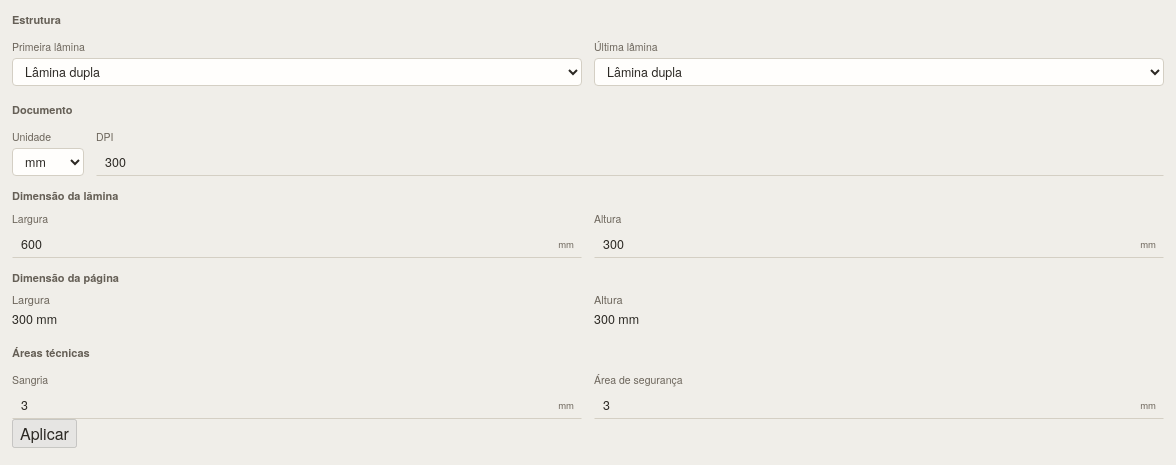
Scenario: changing Unidade converts presentation without changing physical dimensions
The width and height of the screenshot is (1176, 465).
Select "cm" in the dropdown labelled "Unidade" at {"x": 48, "y": 162}, box [12,148,84,176]
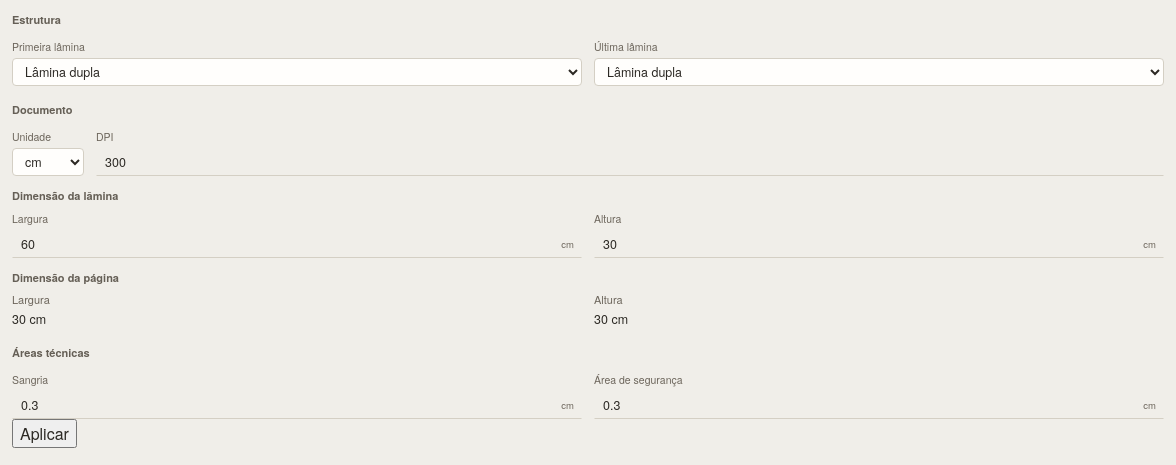
Check: the field labelled "Largura" holds "60", box [12,230,582,258]
Check: the field labelled "Altura" holds "30", box [594,230,1164,258]
Select "pol" in the dropdown labelled "Unidade" at {"x": 48, "y": 162}, box [12,148,84,176]
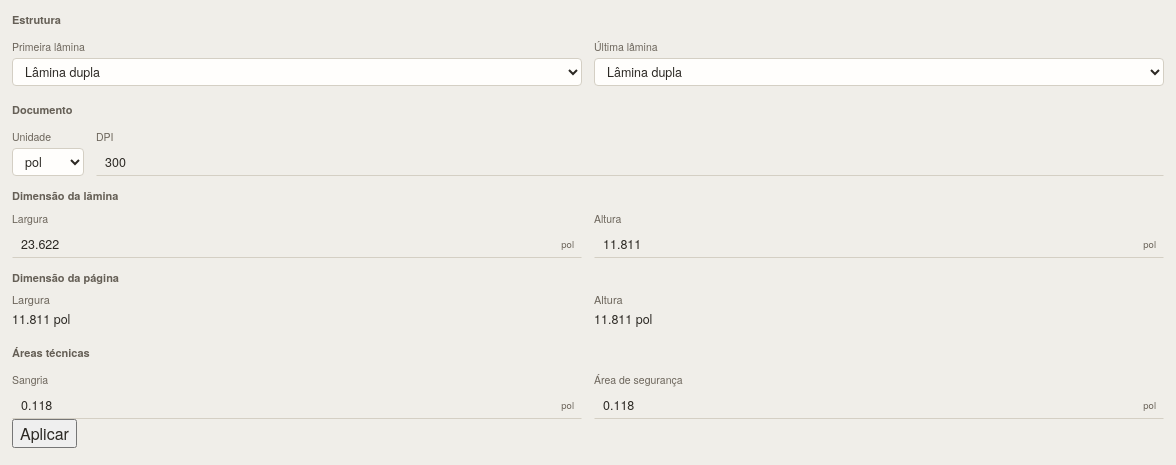
Check: the field labelled "Largura" holds "23.622", box [12,230,582,258]
